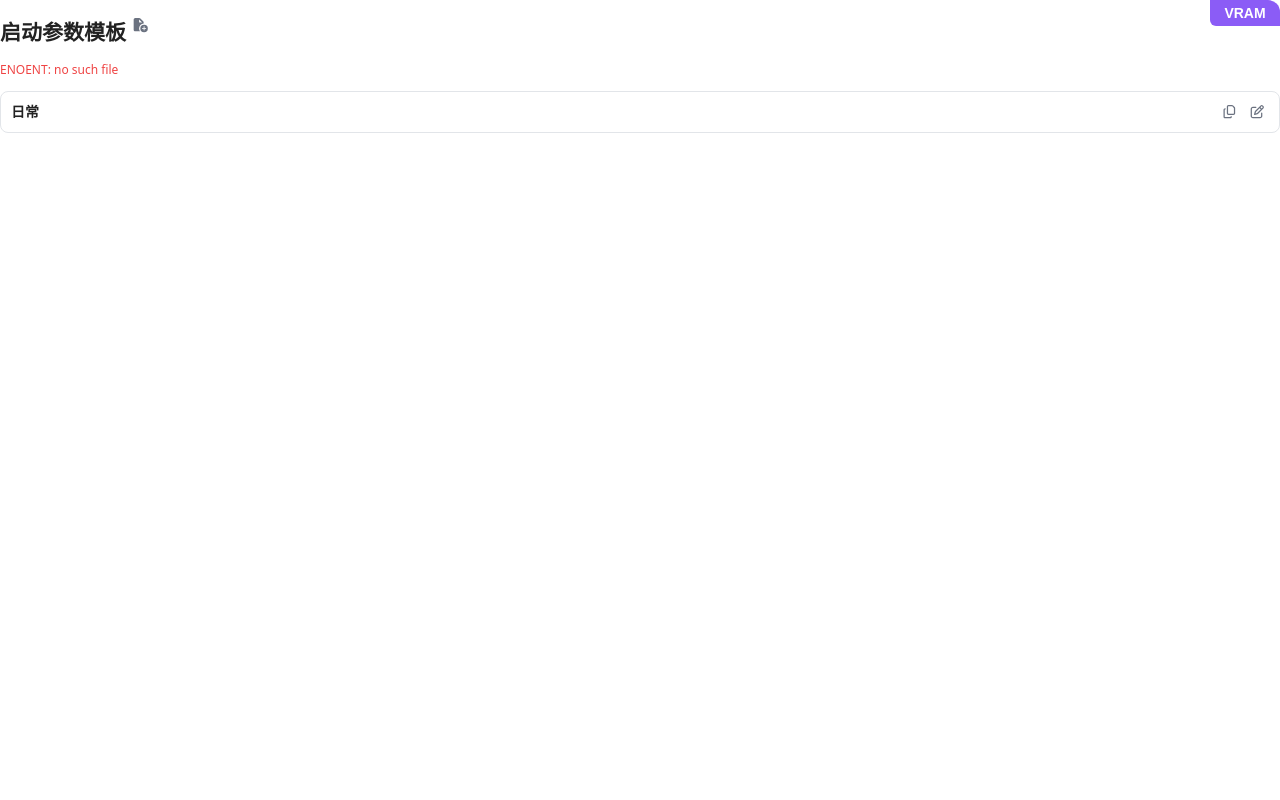
Test: TemplateModule › editing_running_config_disables_delete_with_running_tooltip
The width and height of the screenshot is (1280, 800).
Step 1. Click the button named "编辑" → (1257, 112), box [1245,100,1269,124]
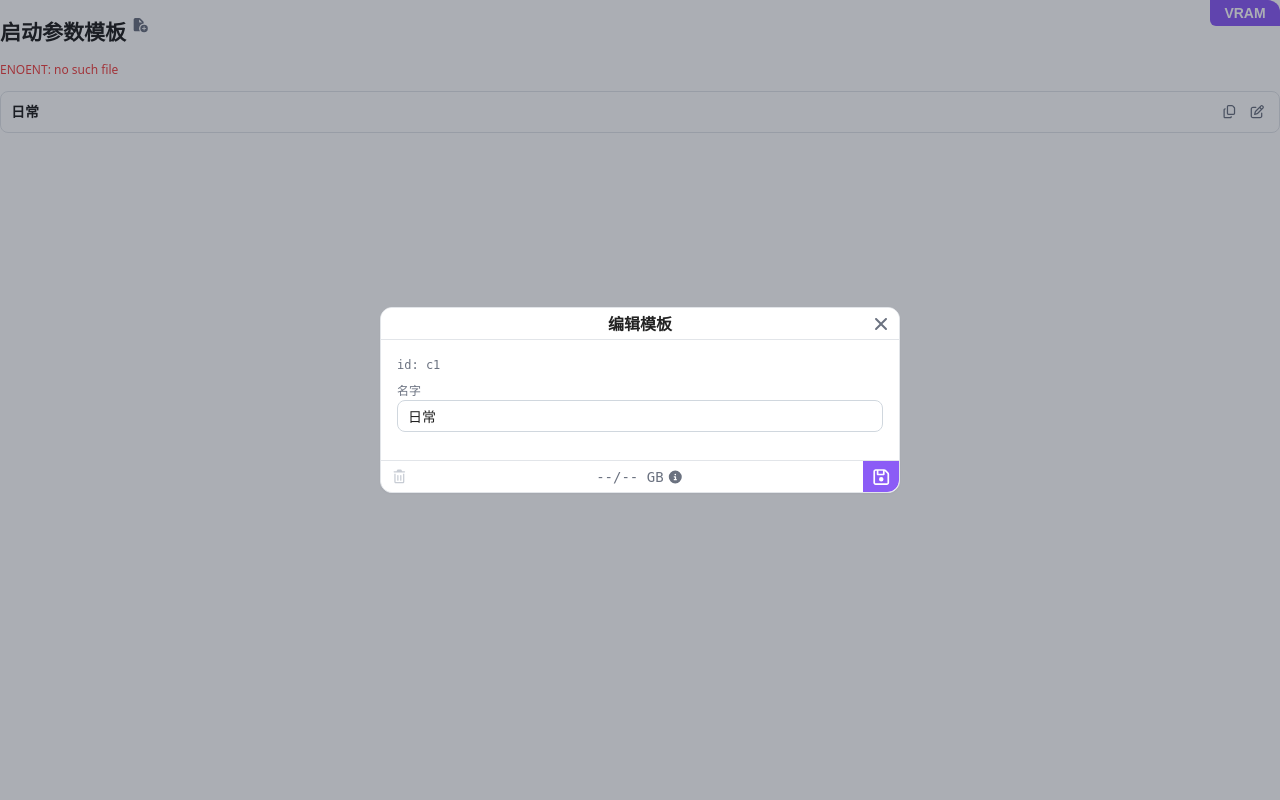
expect the button with class "btn-delete" is disabled: met, box [381,461,417,492]
